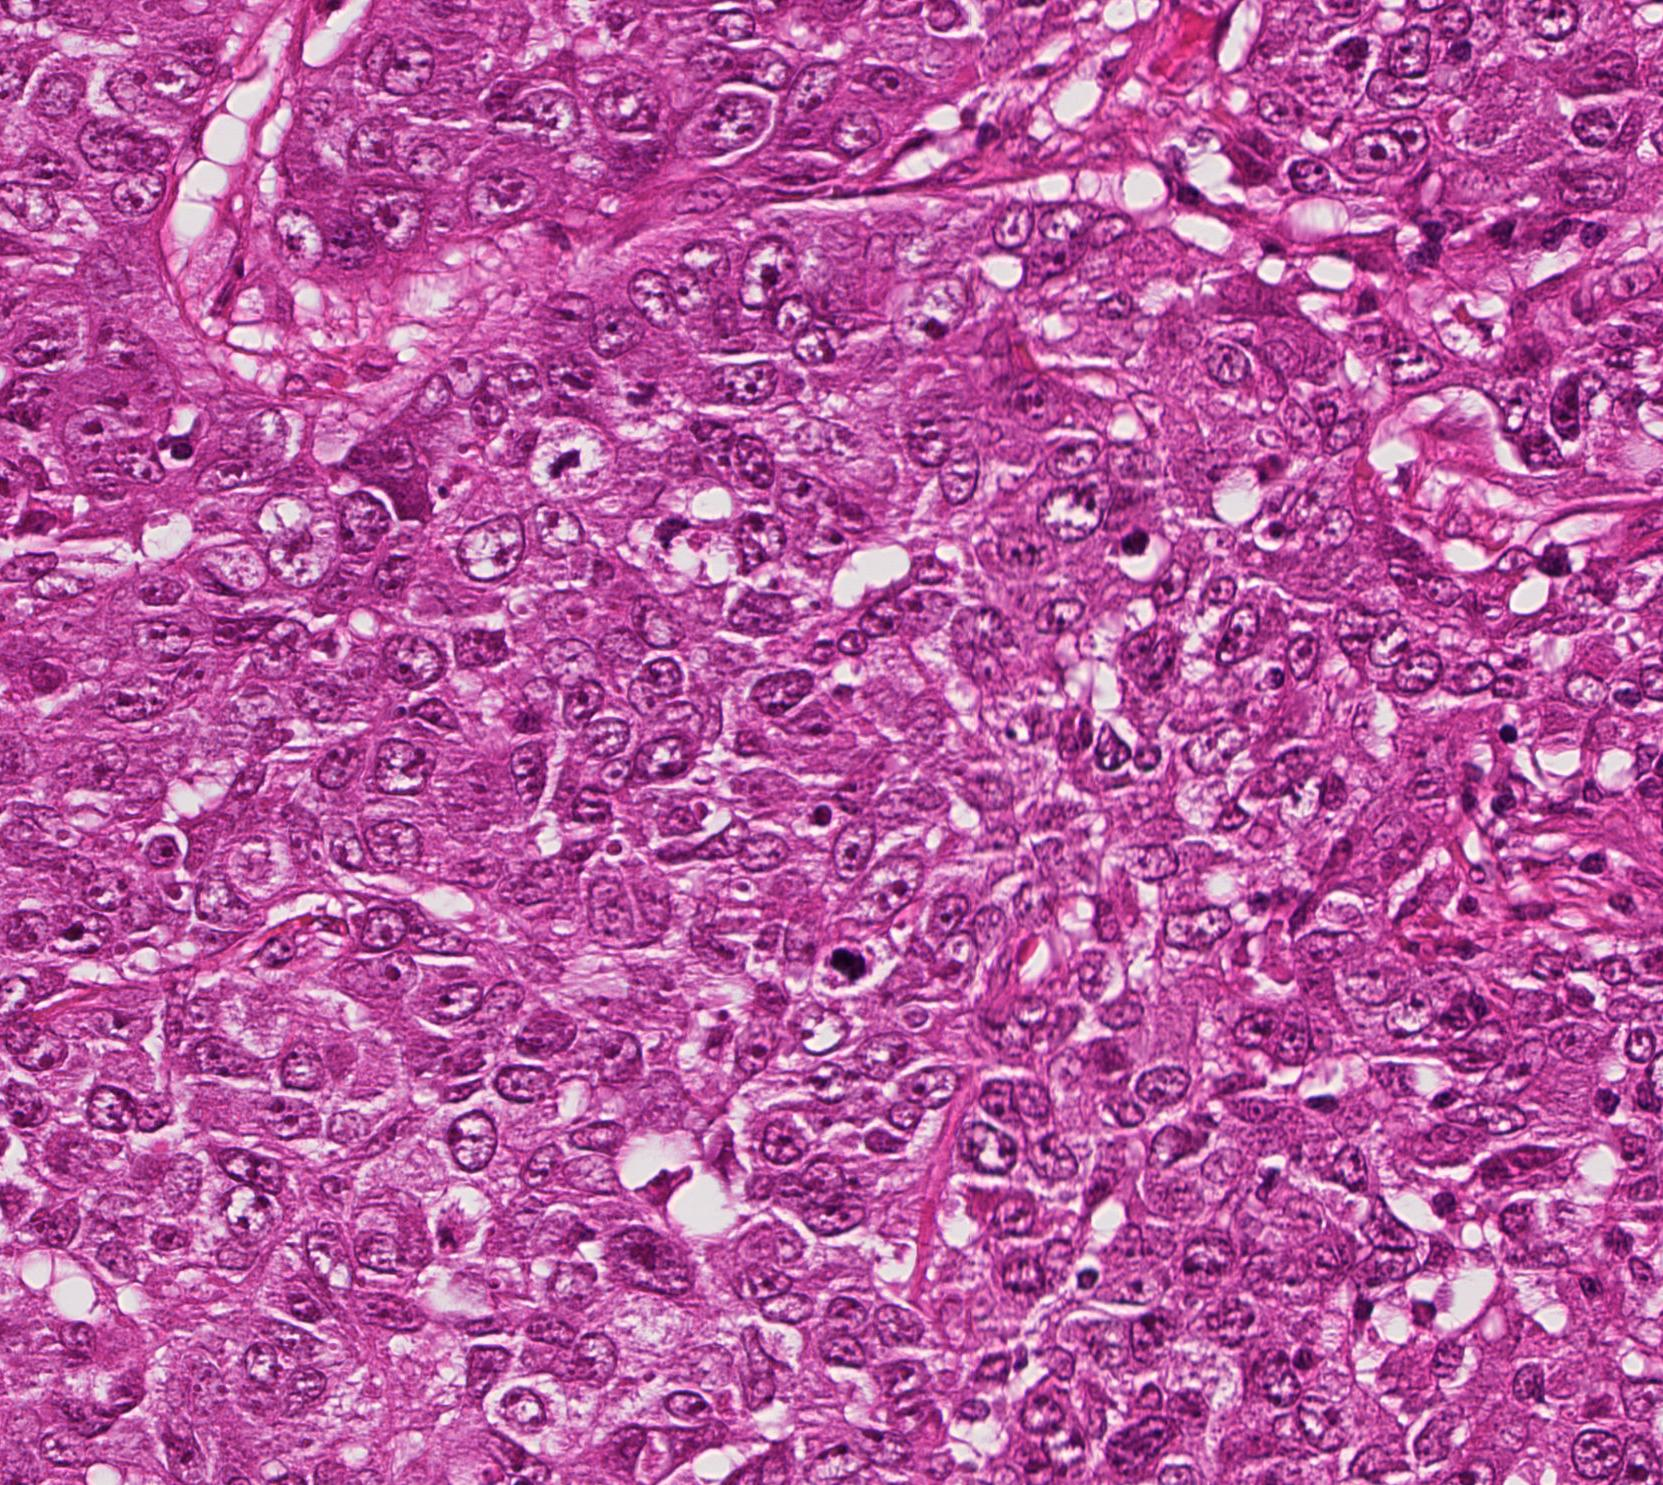mitosis: (821, 927, 882, 988), (540, 431, 601, 492), (628, 503, 688, 563)
